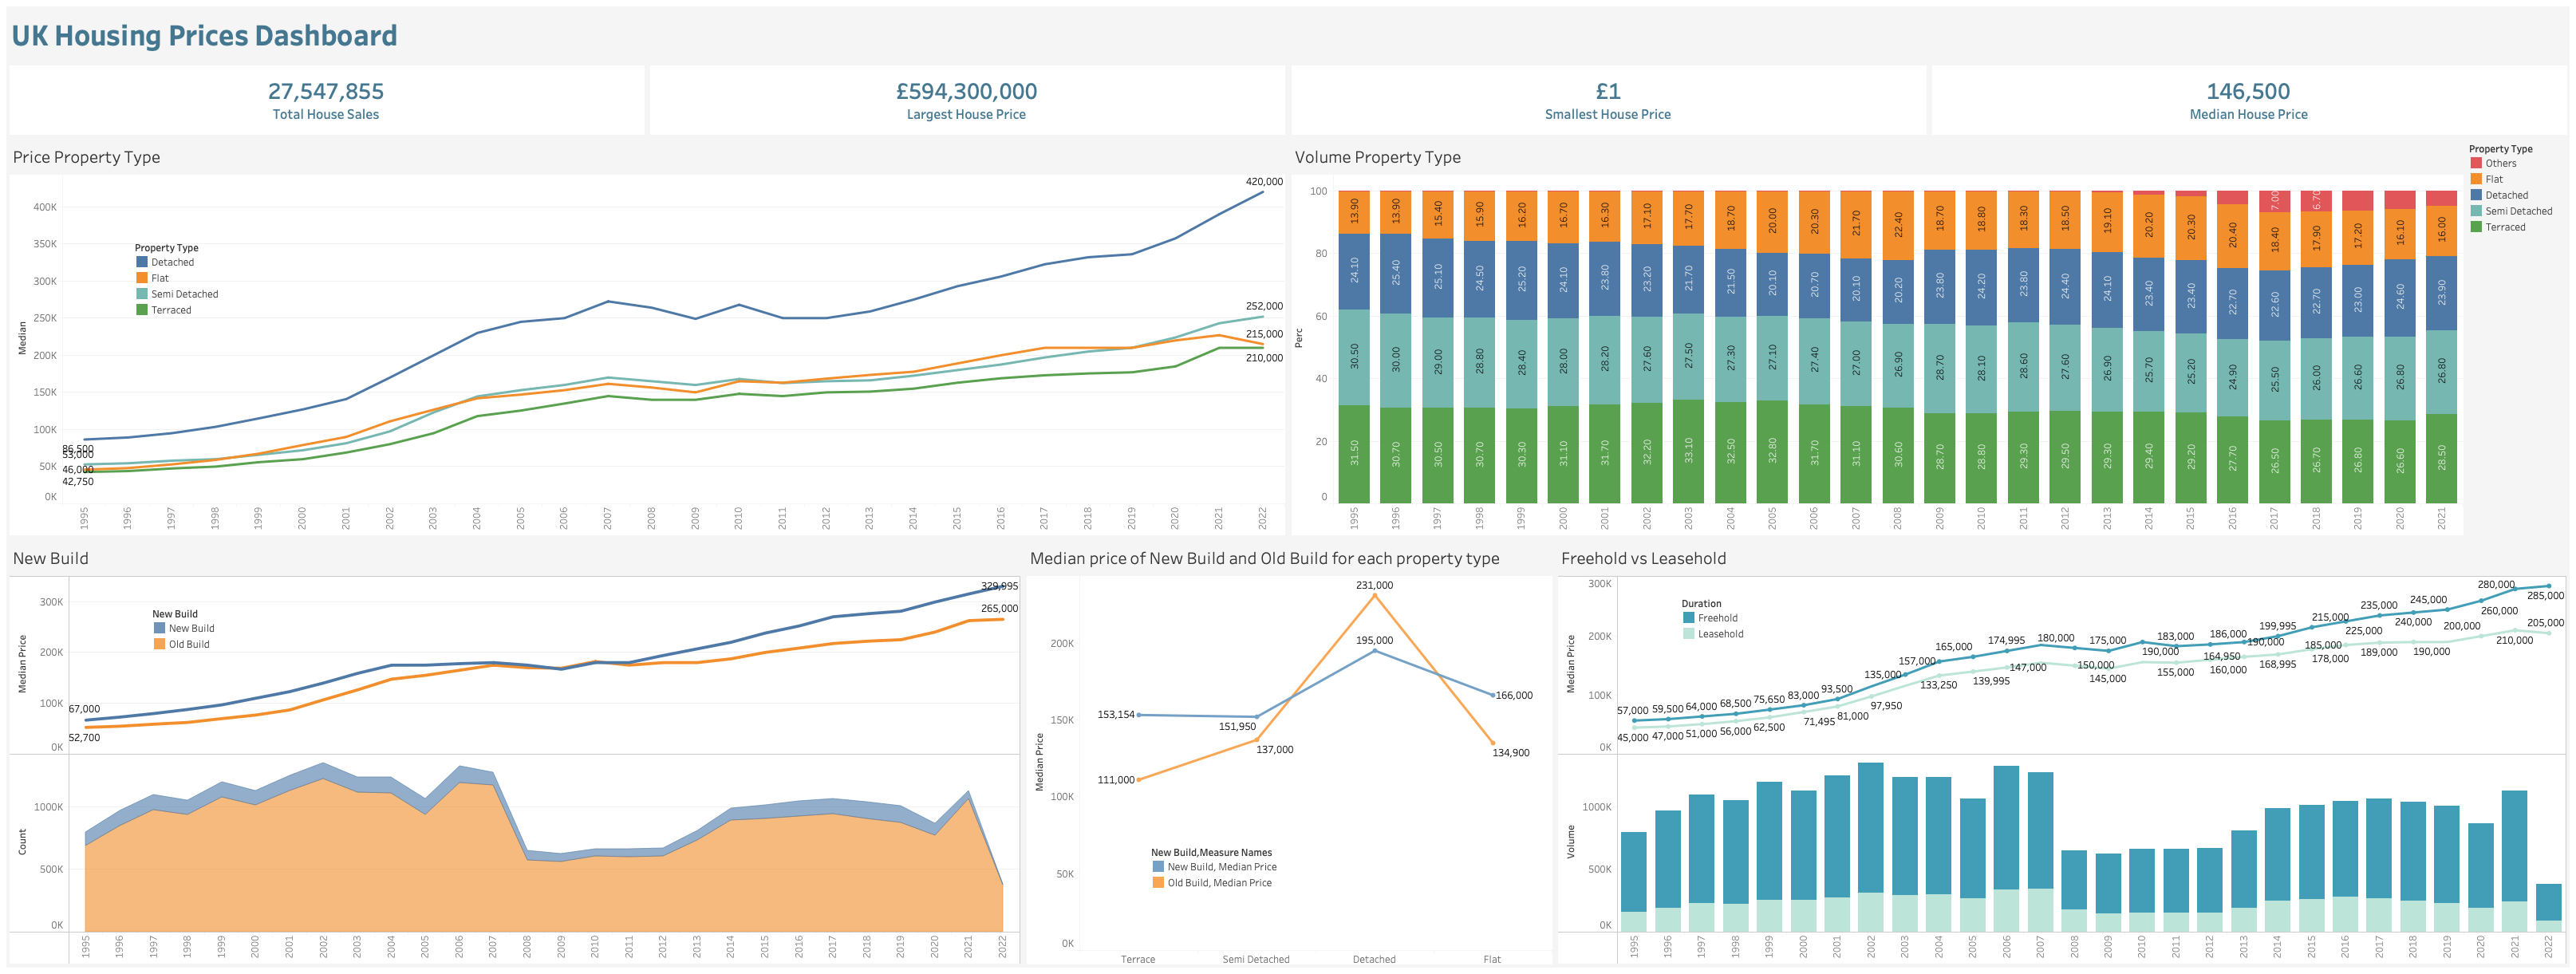

Layout of this report page (visuals, bound fields, positions):
{"tool":"tableau","page":{"name":"Dashboard 2","canvas":[1000,1000],"units":"permille","ordinal":1},"visuals":[{"type":"title","box":[2.5,6.5,995,57.3]},{"type":"worksheet","title":"sales","mark":"Automatic","box":[2.5,63.9,248.8,77]},{"type":"worksheet","title":"max","mark":"Automatic","box":[251.2,63.9,248.8,77]},{"type":"worksheet","title":"min","mark":"Automatic","box":[500,63.9,248.8,77]},{"type":"worksheet","title":"average","mark":"Automatic","box":[748.8,63.9,248.8,77]},{"type":"worksheet","title":"Price Property Type","mark":"Line","rows":["median"],"cols":["year"],"box":[2.5,140.9,497.5,411.9]},{"type":"worksheet","title":"Volume Property Type","mark":"Bar","rows":["perc"],"cols":["year"],"box":[500,140.9,457,411.9]},{"type":"legend","title":"Volume Property Type","param":"[federated.1n4fgpj0uuo5o916vil3z1yhd7ih].[none:property_type:nk]","box":[957,140.9,40.3,411.9]},{"type":"legend","title":"Price Property Type","param":"[federated.1qoe8cy1prr178128dewd0bejkp3].[none:property_type:nk]","box":[52.1,246,66.8,105.4]},{"type":"worksheet","title":"New Build","mark":"Bar","rows":["median_price","count"],"cols":["year"],"box":[2.5,552.8,394.8,440.6]},{"type":"worksheet","title":"New Build - Types","mark":"Line","rows":["median_price"],"cols":["property_type"],"box":[397.3,552.8,206.3,440.6]},{"type":"worksheet","title":"Duration","mark":"Automatic","rows":["median_price","volume"],"cols":["year"],"box":[603.6,552.8,393.9,440.6]},{"type":"legend","title":"Duration","param":"[federated.0nzeqlt161nhhs1870blw1rg1dmi].[none:duration:nk]","box":[652.5,611.3,60.6,61.8]},{"type":"legend","title":"New Build","param":"[federated.171knse1wmfb9e117zxel17we1cj].[none:new_build:nk]","box":[58.9,621.9,50.9,65]},{"type":"legend","title":"New Build - Types","param":"[federated.1m6lxqc1s81qaw15ihcd21ae2ppr].[none:new_build:nk]\n[federated.1m6lxqc1","box":[446.5,866.9,60.6,70.3]}]}

Visuals, with their boxes on the dashboard's canvas, which has no fixed pixel size, in thousandths of its width and height (x1, y1, x2, y2). These are canvas units, not pixel positions in the 2576x974 screenshot, which may show the page scaled, cropped or inside an application window:
title: <box>2,6,998,64</box>
"sales" worksheet: <box>2,64,251,141</box>
"max" worksheet: <box>251,64,500,141</box>
"min" worksheet: <box>500,64,749,141</box>
"average" worksheet: <box>749,64,998,141</box>
"Price Property Type" worksheet (Line marks): <box>2,141,500,553</box>
"Volume Property Type" worksheet (Bar marks): <box>500,141,957,553</box>
"Volume Property Type" legend: <box>957,141,997,553</box>
"Price Property Type" legend: <box>52,246,119,351</box>
"New Build" worksheet (Bar marks): <box>2,553,397,993</box>
"New Build - Types" worksheet (Line marks): <box>397,553,604,993</box>
"Duration" worksheet: <box>604,553,998,993</box>
"Duration" legend: <box>652,611,713,673</box>
"New Build" legend: <box>59,622,110,687</box>
"New Build - Types" legend: <box>446,867,507,937</box>
